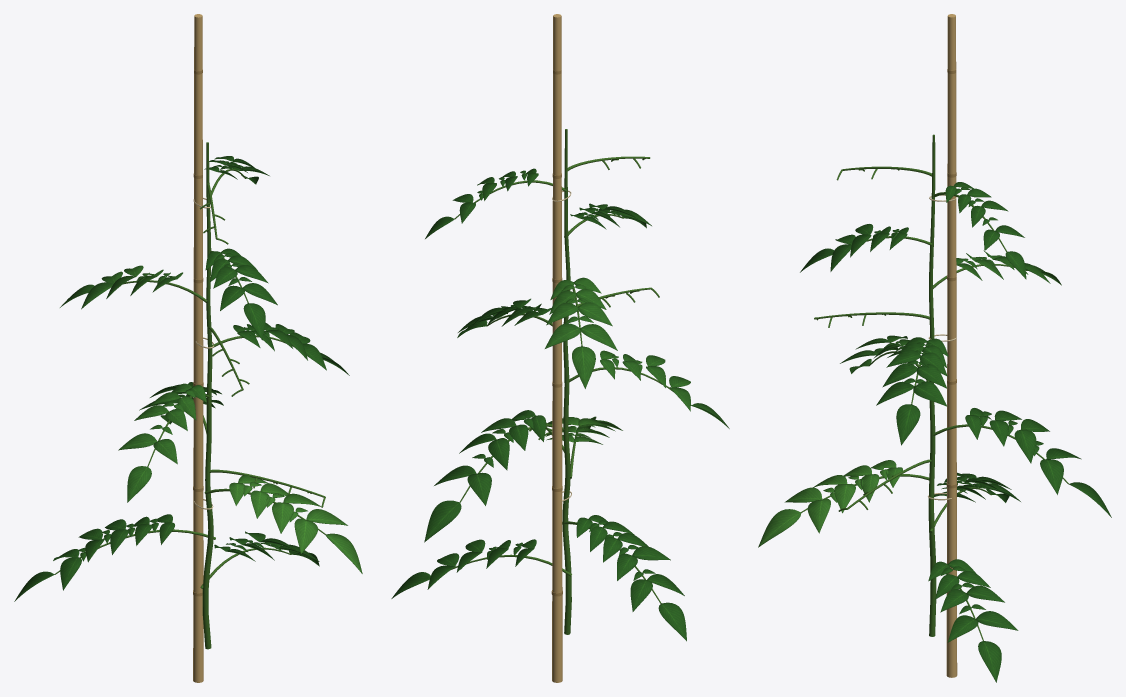
The model's file is tomato_plant_c.glb.
3 views of the same model, side by side, from view 1: azimuth 30°, elevation 25°; view 2: azimuth 150°, elevation 25°; view 3: azimuth 270°, elevation 25° (orthographic).
Parts seen in each view (by area): view 1: stake, stem, leaflet.046, leaflet.027; view 2: stake, stem, leaflet.037, leaflet.066, leaflet.019, leaflet.035; view 3: stake, stem, leaflet.028, leaflet.057, leaflet.008, leaflet.036.
Boxes of the visible parts, x1,y1,x2,y2 form: stake: (193,14,203,682); stem: (202,142,213,649); leaflet.046: (127,466,151,502); leaflet.027: (294,518,317,553); stake: (552,14,562,682); stem: (562,129,571,634); leaflet.037: (424,500,461,542); leaflet.066: (572,346,595,388); leaflet.019: (658,602,686,641); leaflet.035: (467,472,491,505); stake: (946,14,957,677); stem: (928,134,936,636); leaflet.028: (758,509,801,547); leaflet.057: (896,404,920,445); leaflet.008: (978,641,1001,682); leaflet.036: (1040,459,1063,494).
Bounding box in the file's own units: 0.7847 × 1.66 × 0.8056.
7 materials, 3 textured.
